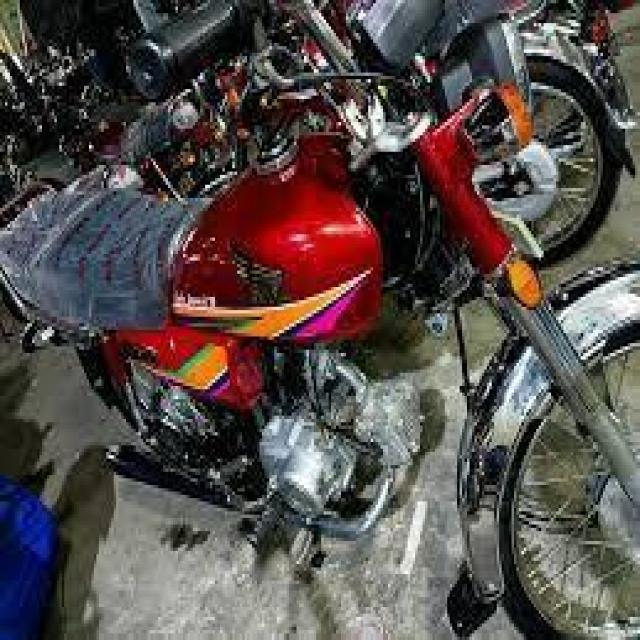motorcycle: (0, 12, 640, 635)
